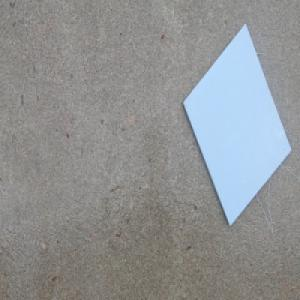PaintChip: (182, 22, 292, 226)
